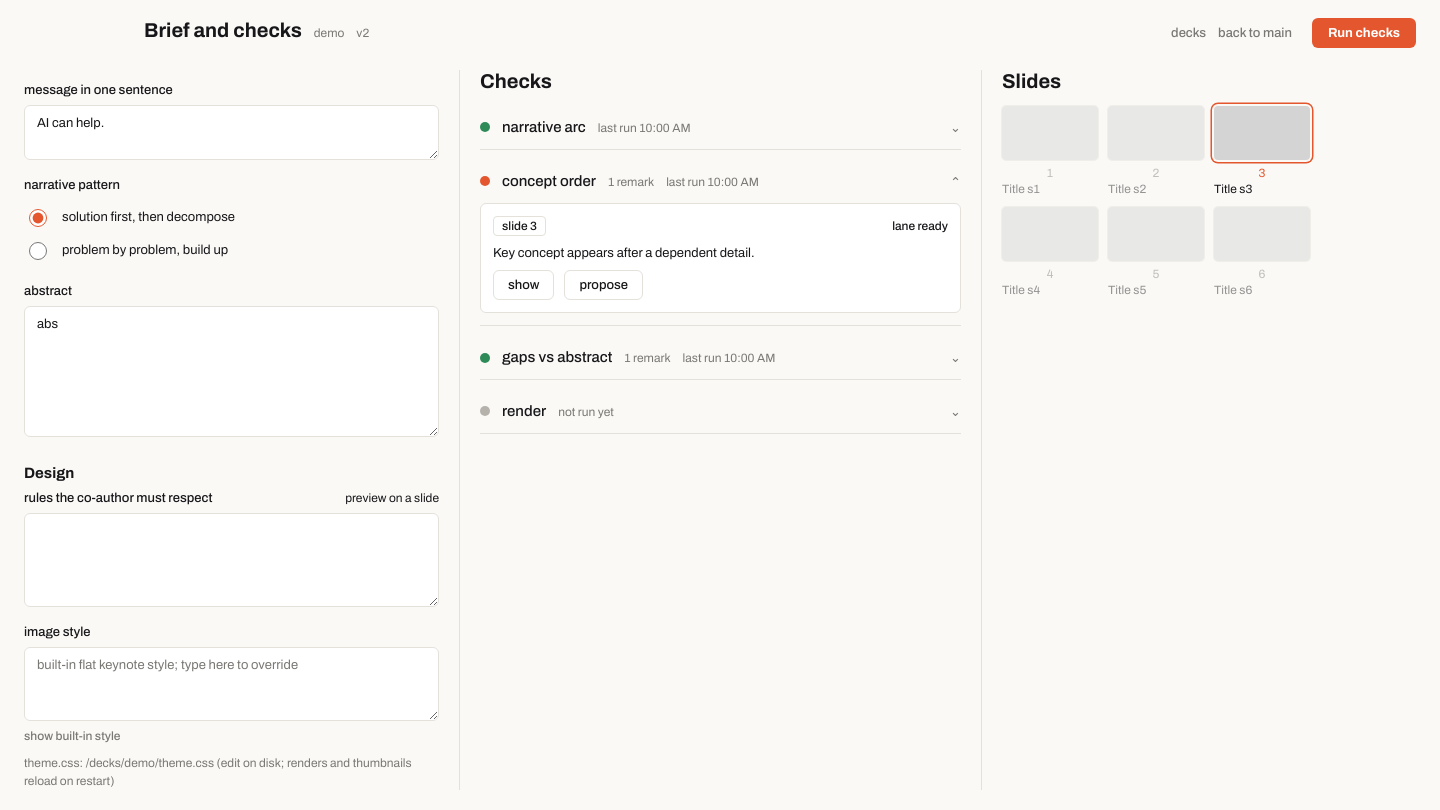
it: BriefChecks › design: an empty image style has a short placeholder, the built-in style behind a disclosure, and the theme.css note names its path
This screenshot has width=1440, height=810.
(page scrolled)
Expected: the text box labelled "image style" is empty, [24,647,439,721]
Click the button "show built-in style" at [72, 736], box [24,729,120,743]
(page scrolled)
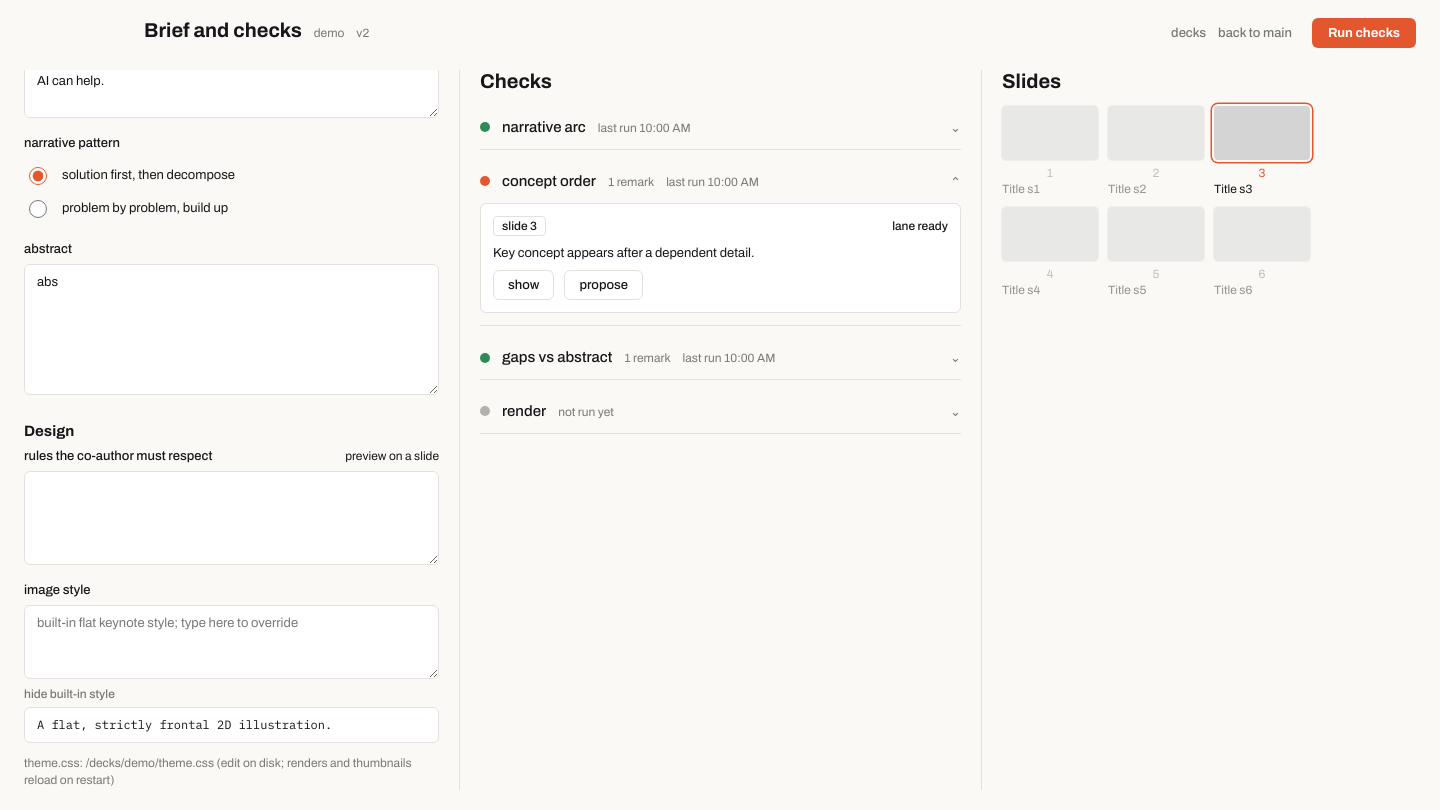
Expected: the text with test id "theme-note" shows "theme.css: /decks/demo/theme.css (edit on disk; renders and thumbnails reload on restart)", [24,756,412,787]
Now the text with test id "builtin-style" reads "A flat, strictly frontal 2D illustration.", box [37,717,332,732]
Now the button "hide built-in style" is expanded, box [24,687,115,701]
